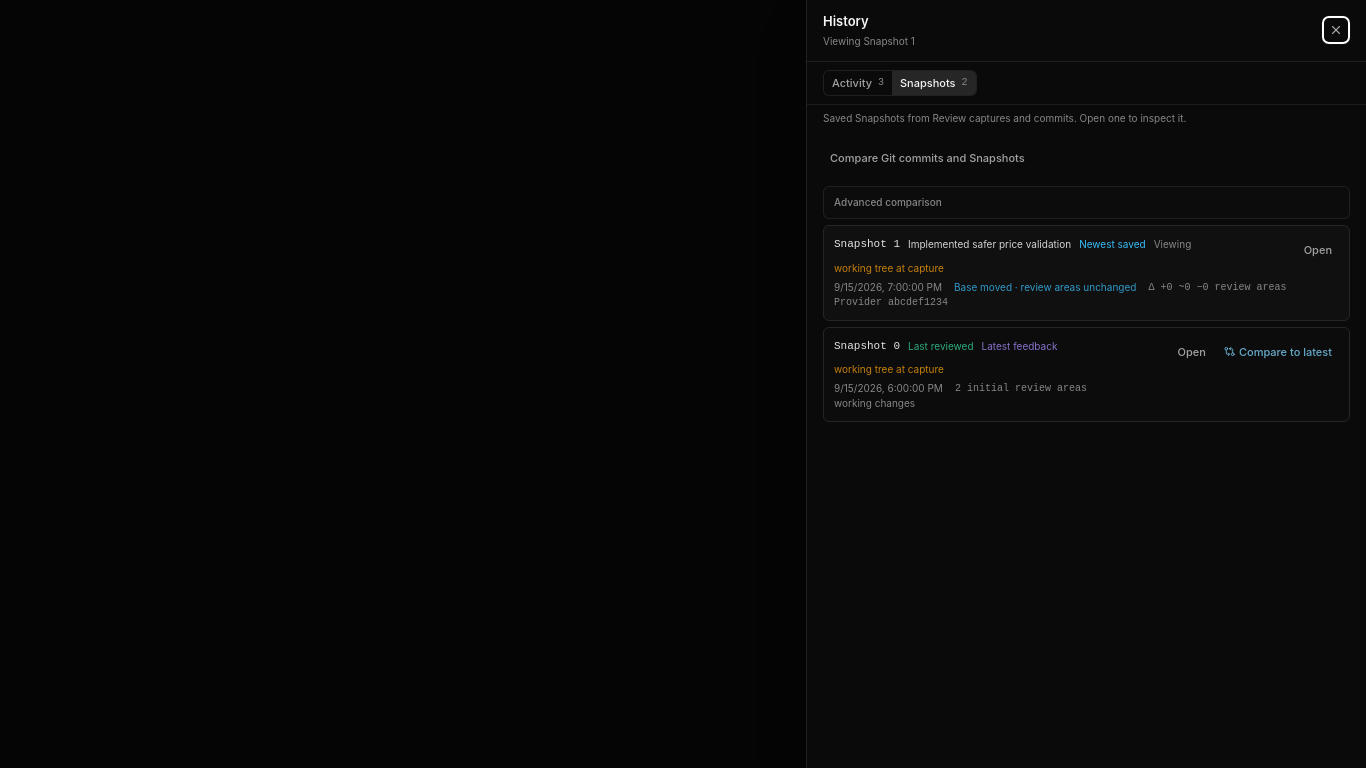
ReviewHistorySheet › opens on revisions and keeps append-only activity one tab away
Expected: the text "2 initial review areas" is shown, [955,381,1087,396]
Expected: the text "Δ +0 ~0 −0 review areas" is shown, [1148,280,1286,295]
Click the radio button labelled "Activity 3": (858, 83) [824,70,892,95]
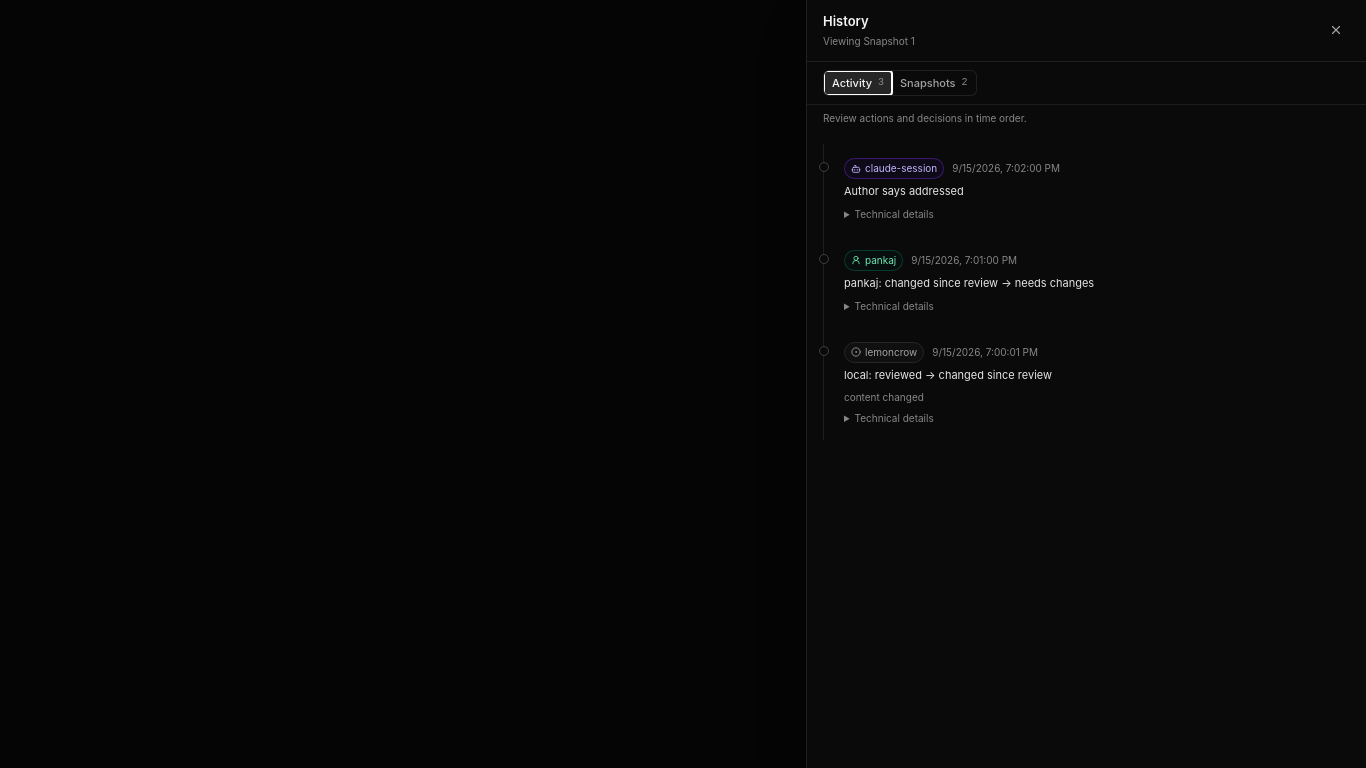
Expected: the text "Author says addressed" is shown, [844,184,964,198]
Expected: the text "pankaj" is shown, [844,250,903,271]
Expected: the text "claude-session" is shown, [844,158,944,179]
